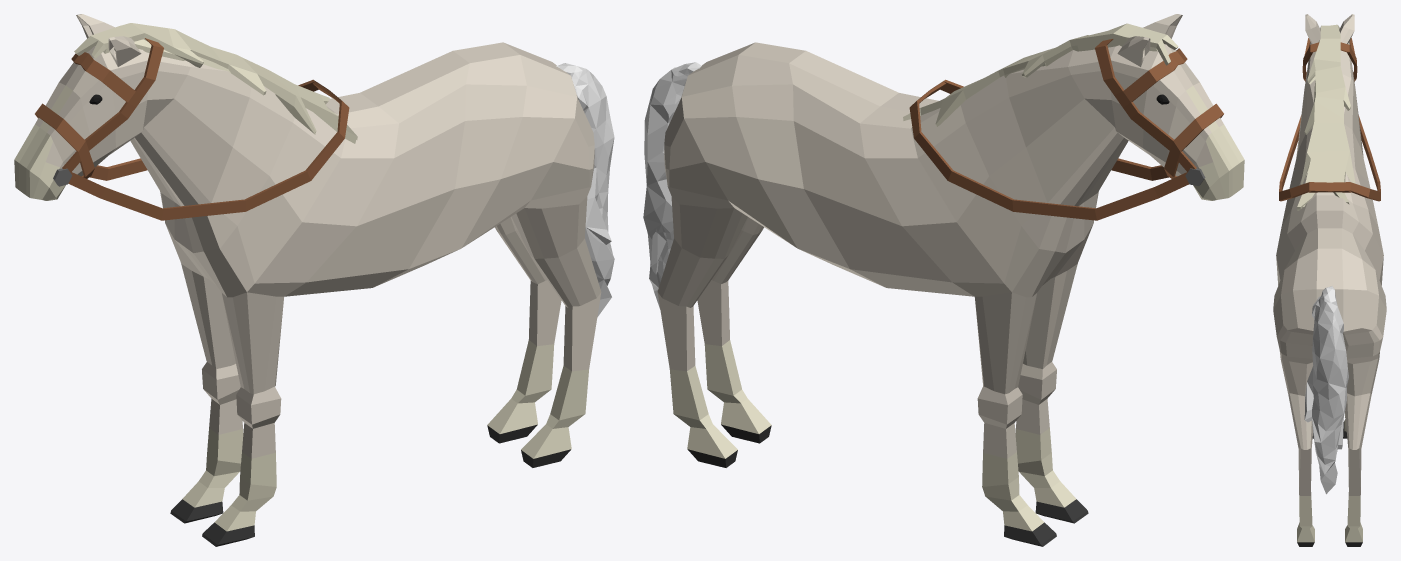
Rendered from Paard.fbx.
3 views of the same model, side by side, from view 1: azimuth 30°, elevation 25°; view 2: azimuth 150°, elevation 25°; view 3: azimuth 270°, elevation 25° (orthographic). The views are drawn at different scales.
Parts seen in each view (by area): view 1: Paard, Hoofdstel, Haar, Staart; view 2: Paard, Hoofdstel, Staart, Haar; view 3: Paard, Staart, Haar, Hoofdstel.
Boxes of the visible parts, left/top/right/bottom form: Paard: left=14, top=14, right=601, bottom=546; Hoofdstel: left=35, top=38, right=349, bottom=220; Haar: left=74, top=23, right=357, bottom=143; Staart: left=556, top=63, right=614, bottom=317; Paard: left=657, top=14, right=1244, bottom=546; Hoofdstel: left=909, top=39, right=1223, bottom=220; Staart: left=643, top=62, right=701, bottom=309; Haar: left=903, top=23, right=1178, bottom=126; Paard: left=1273, top=14, right=1386, bottom=546; Staart: left=1304, top=286, right=1348, bottom=494; Haar: left=1297, top=24, right=1355, bottom=210; Hoofdstel: left=1279, top=38, right=1380, bottom=201.
Bounding box in the file's own units: 299 × 256 × 69.94.
